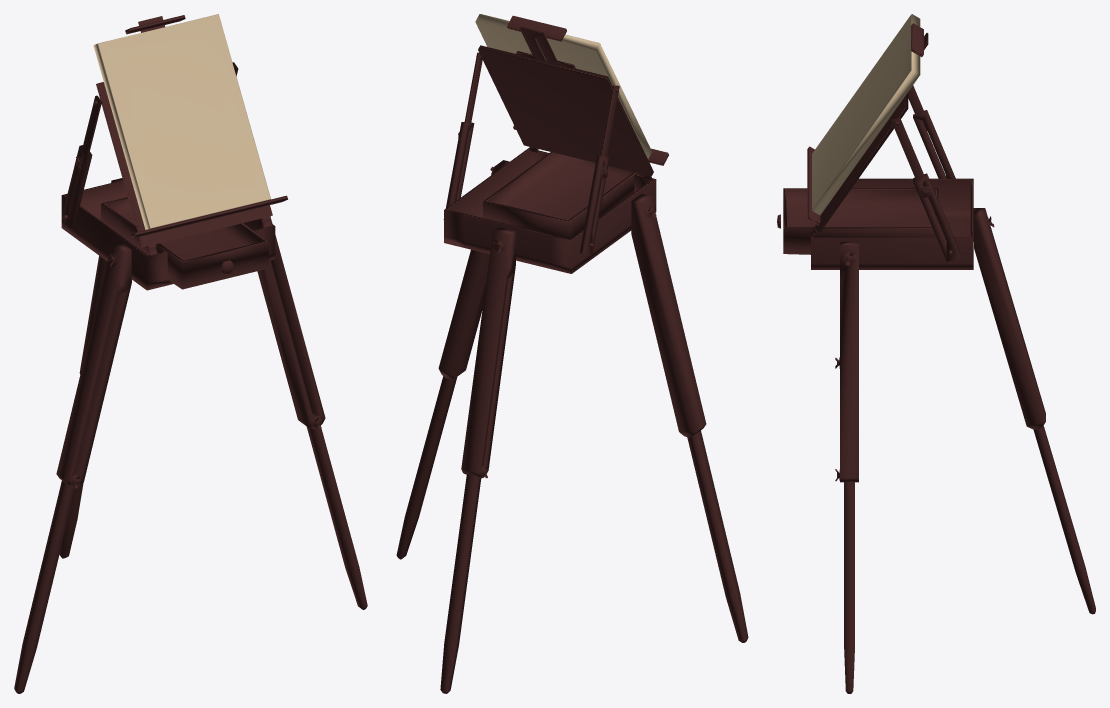
File: Easel.fbx
3 renders of one model, left to right at view 1: azimuth 30°, elevation 25°; view 2: azimuth 150°, elevation 25°; view 3: azimuth 270°, elevation 25°, orthographic. The views are drawn at different scales.
Parts seen in each view (by area): view 1: EaselStand.002; view 2: EaselStand.002; view 3: EaselStand.002.
Boxes of the visible parts, <box> form: EaselStand.002: <box>14,14,367,693</box>; EaselStand.002: <box>396,14,748,693</box>; EaselStand.002: <box>777,14,1095,693</box>.
Bounding box in the file's own units: 359 × 595 × 297.
